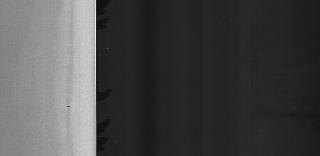oil spot: (65, 104, 75, 112)
silk spot: (0, 18, 52, 136)
